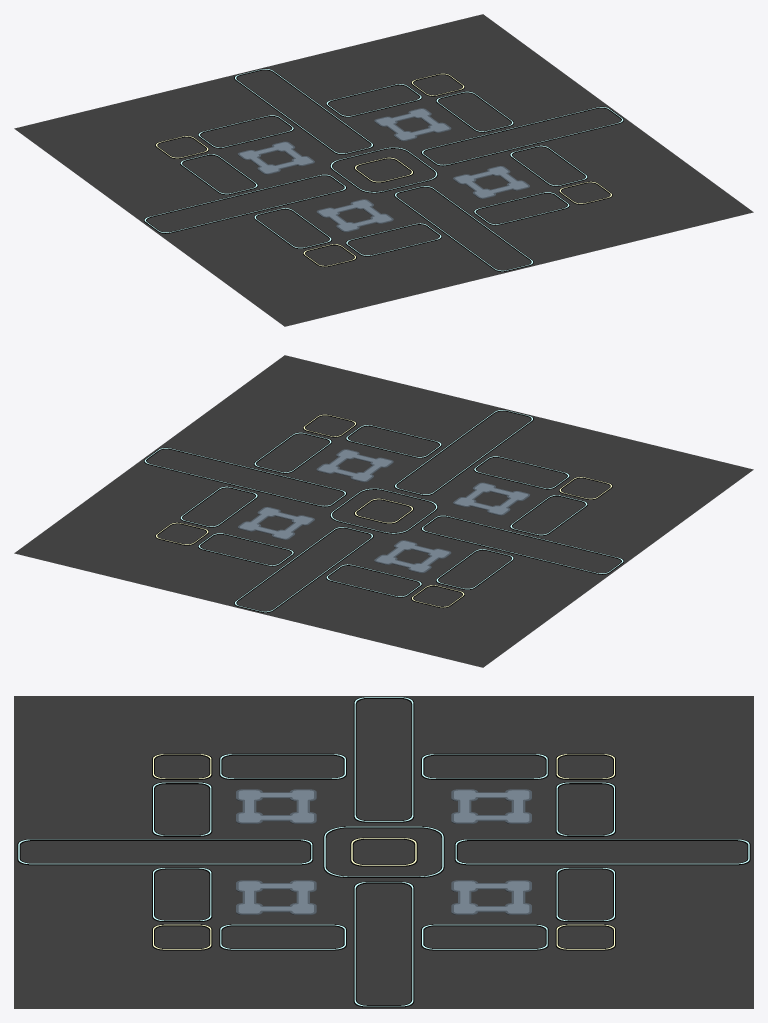
Rendered from Restaurant Floor.fbx.
3 views of the same model, one above another, from view 1: azimuth 30°, elevation 25°; view 2: azimuth 150°, elevation 25°; view 3: azimuth 270°, elevation 25° (orthographic). The views are drawn at different scales.
Parts seen in each view (by area): view 1: Center Plattform, Center Surrounding Ground Decor, Center Mittle Ground Decor; view 2: Center Plattform, Center Surrounding Ground Decor, Center Mittle Ground Decor; view 3: Center Plattform, Center Surrounding Ground Decor, Center Mittle Ground Decor.
Boxes of the visible parts, bbox=[...] form: Center Plattform: bbox=[14, 14, 753, 326]; Center Surrounding Ground Decor: bbox=[144, 68, 623, 271]; Center Mittle Ground Decor: bbox=[330, 147, 437, 193]; Center Plattform: bbox=[14, 355, 753, 667]; Center Surrounding Ground Decor: bbox=[144, 409, 623, 612]; Center Mittle Ground Decor: bbox=[330, 488, 437, 534]; Center Plattform: bbox=[14, 696, 753, 1008]; Center Surrounding Ground Decor: bbox=[17, 697, 750, 1007]; Center Mittle Ground Decor: bbox=[323, 826, 444, 877].
Bounding box in the file's own units: 2750 × 2.5 × 2750.
